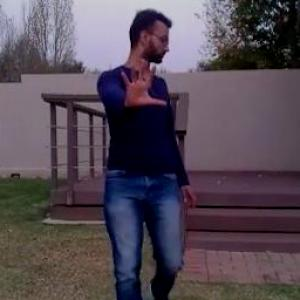follow_hand: (118, 52, 169, 112)
